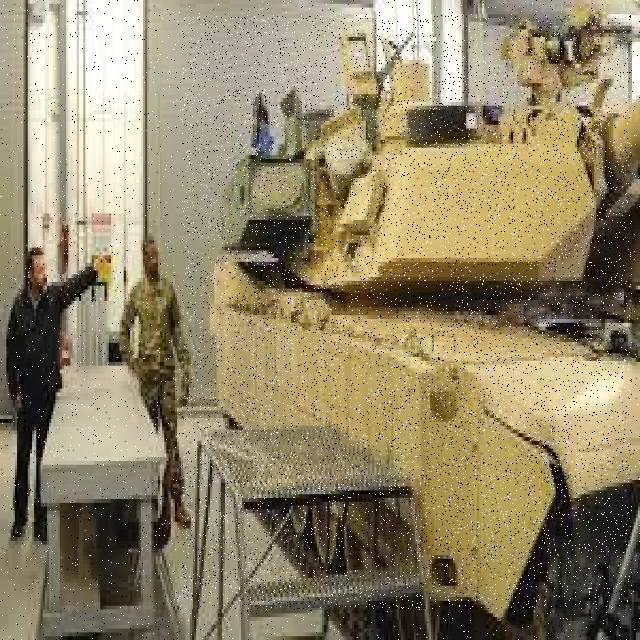MIL_MBT: (182, 15, 632, 609)
